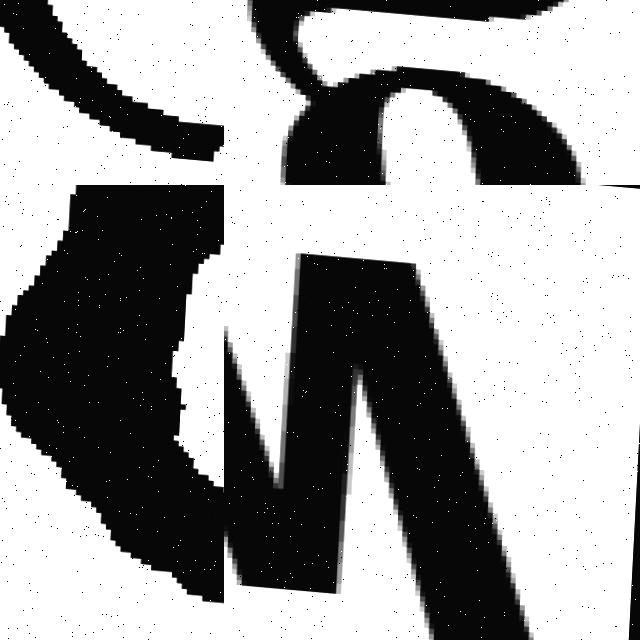6: (0, 0, 224, 167)
G: (224, 0, 640, 185)
O: (4, 185, 224, 596)
W: (224, 226, 590, 640)
